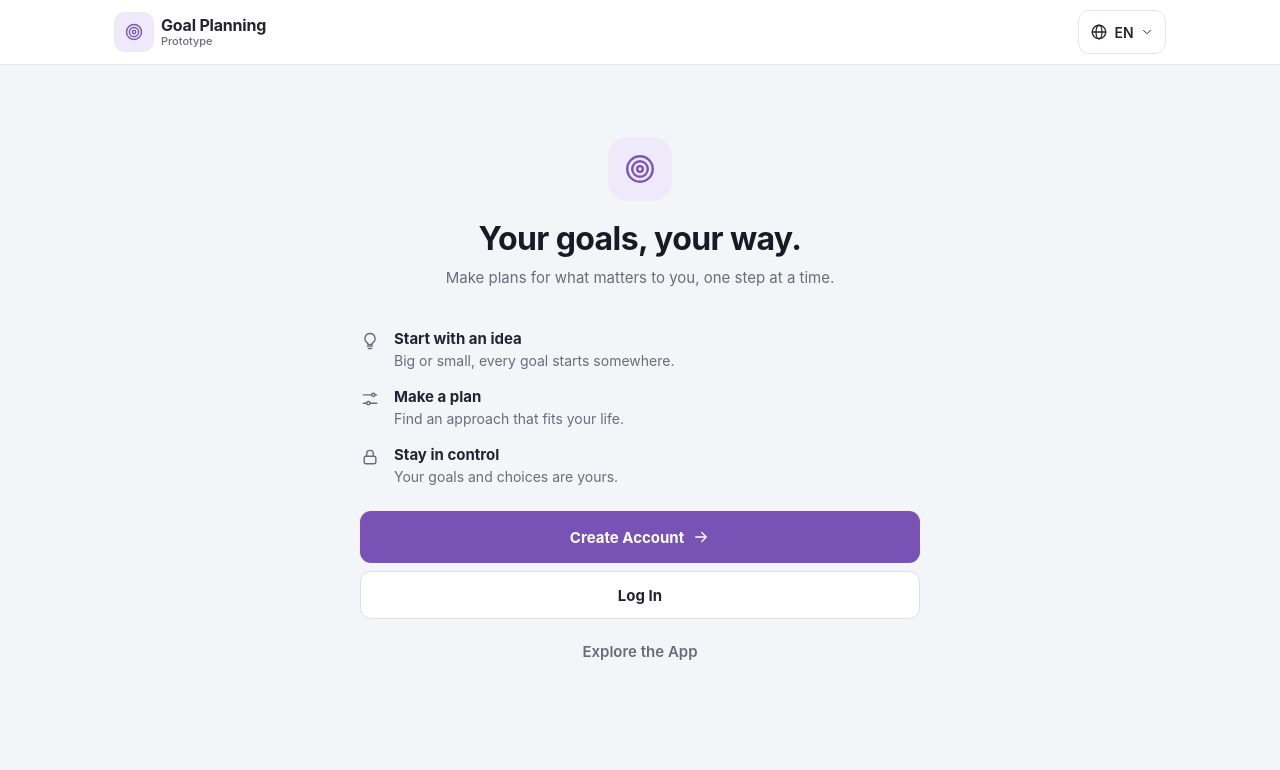
Test: Mark as Paid on Home › opens the short form with the due date and the only Daily Spending account; once saved, the bill leaves Left to Pay
The image size is (1280, 770).
Click the button "Explore the App": point(640, 651) [360, 627, 920, 675]
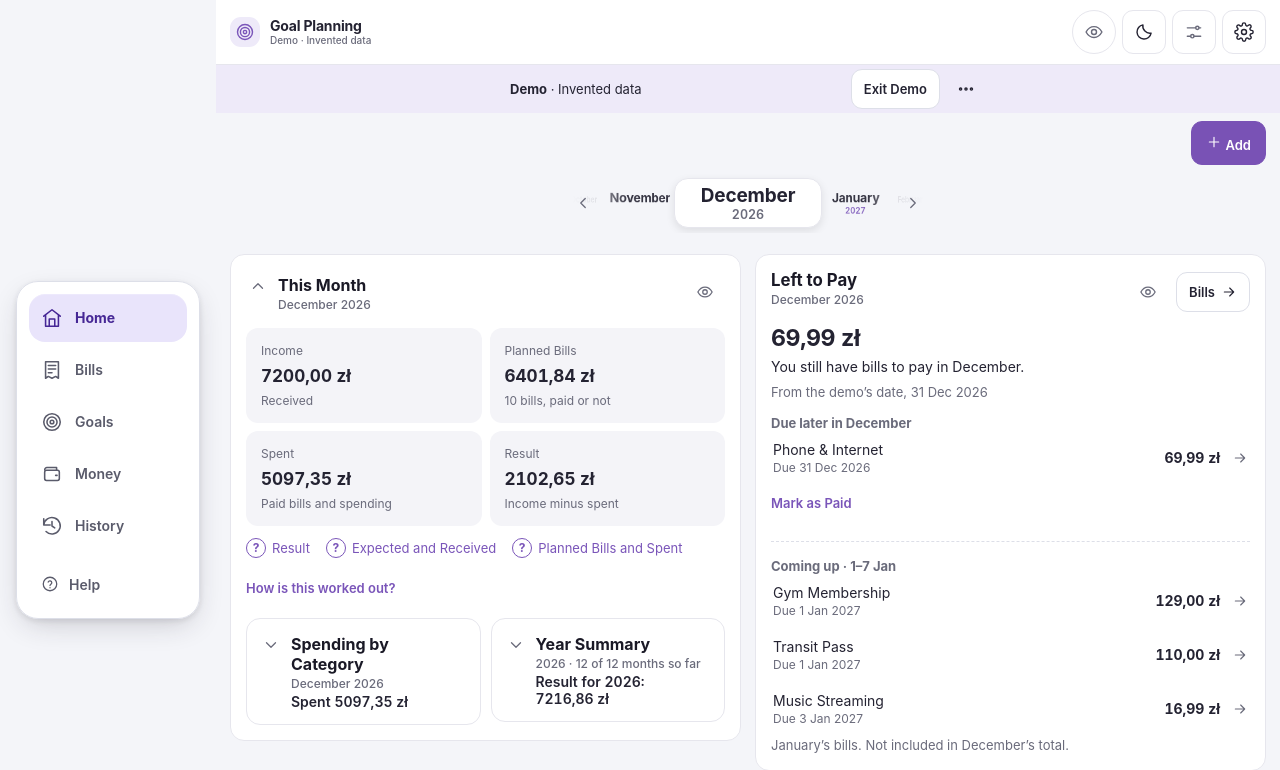
Click the button with aria-label "Mark as Paid: Phone & Internet, December 2026": point(811, 502) [771, 480, 852, 524]
(page scrolled)
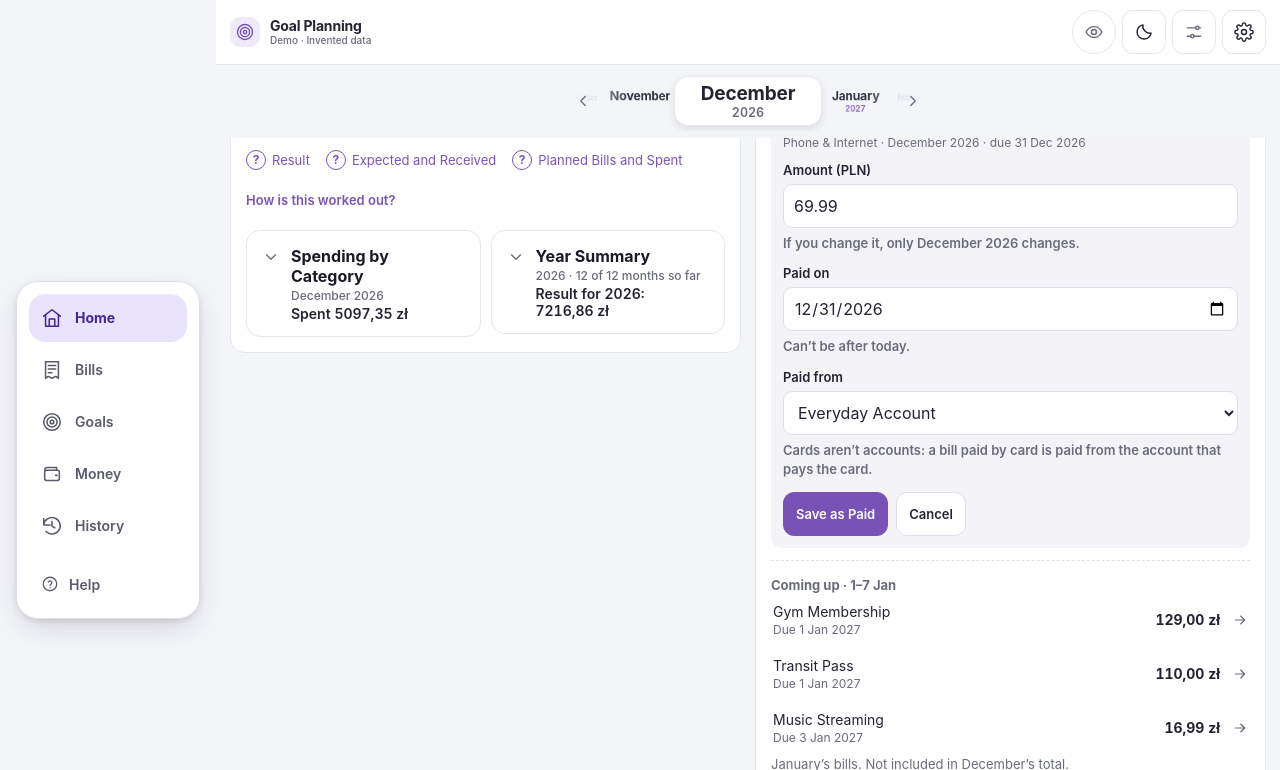
Click the button "Save as Paid": point(836, 514) [783, 492, 888, 536]
(page scrolled)
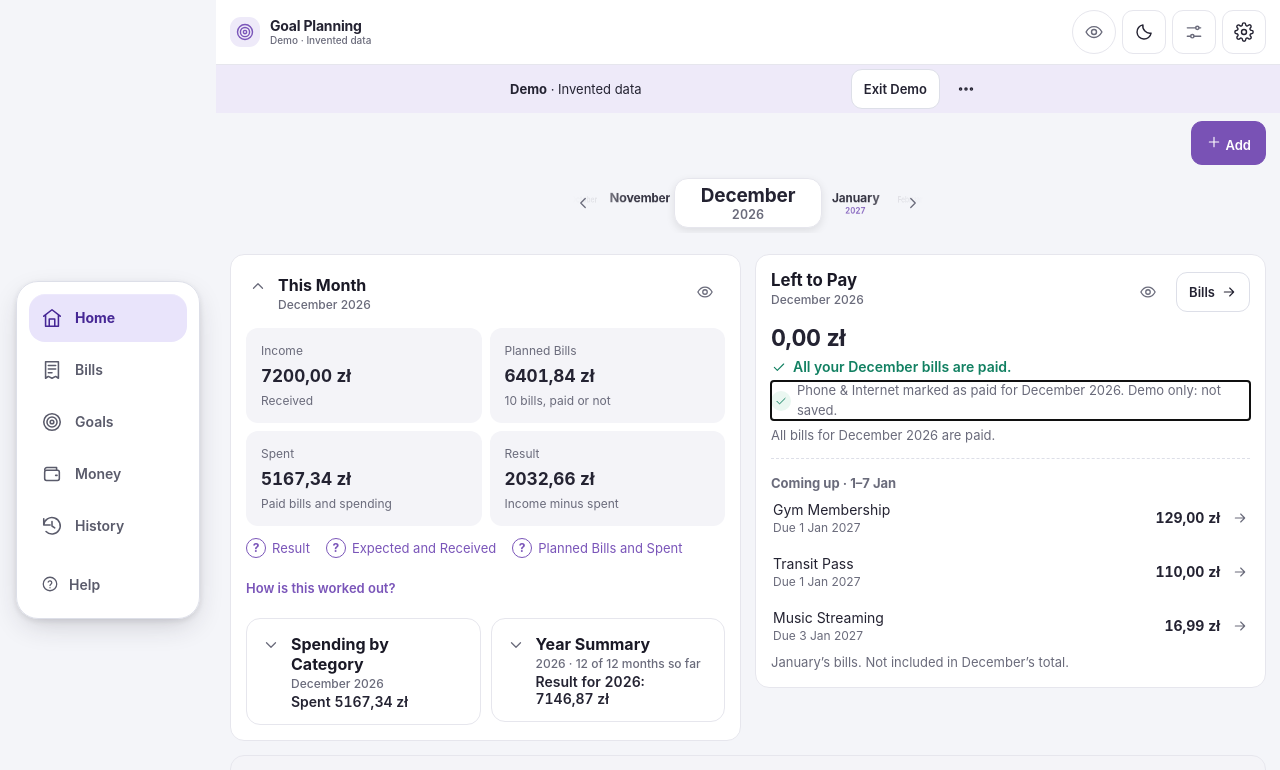
Now the element "Left to Pay" shows "All your December bills are paid.", box [793, 358, 1012, 375]
Now the text "Phone & Internet marked as paid for December 2026. Demo only: not saved." is shown, box [771, 381, 1250, 420]
Now the message "All bills for December 2026 are paid." is shown, box [771, 427, 995, 443]
Click the button "History": point(108, 526) [29, 502, 187, 550]
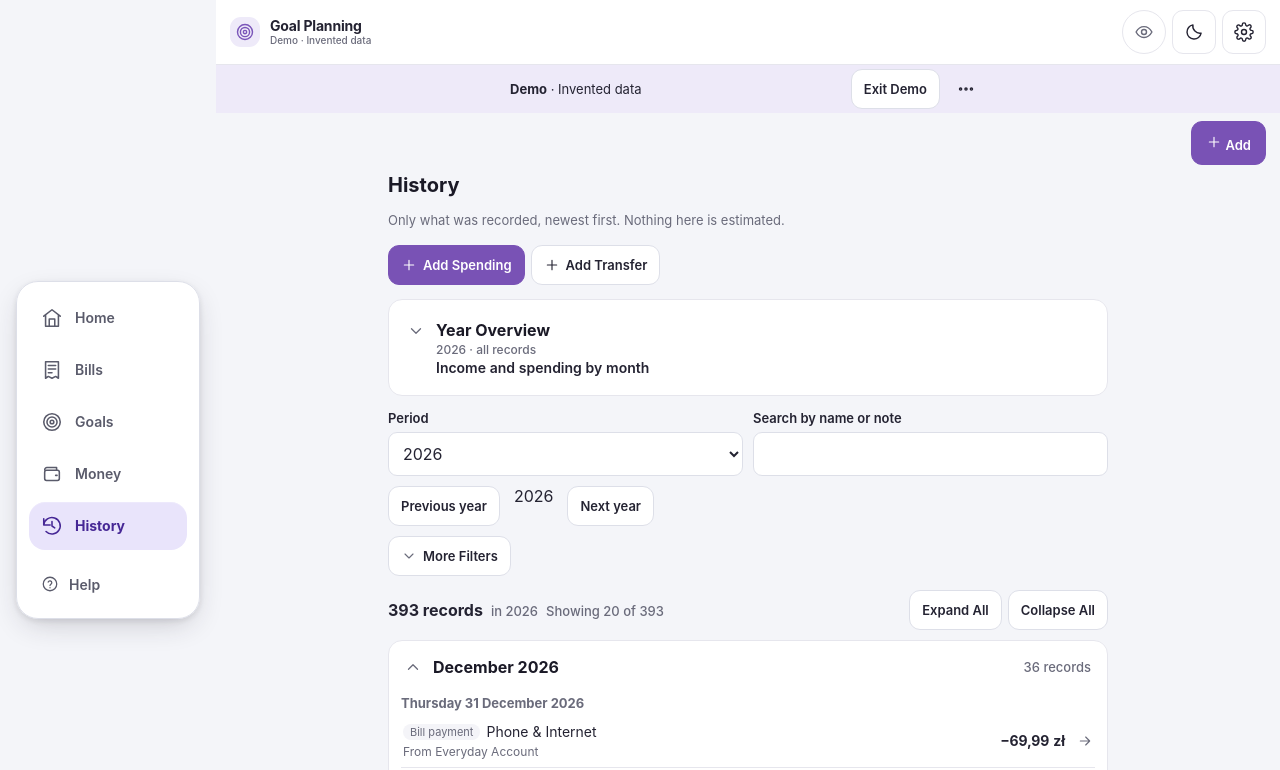
Now the button that starts with "Bill payment" shows "From Everyday Account", box [401, 716, 1095, 764]
